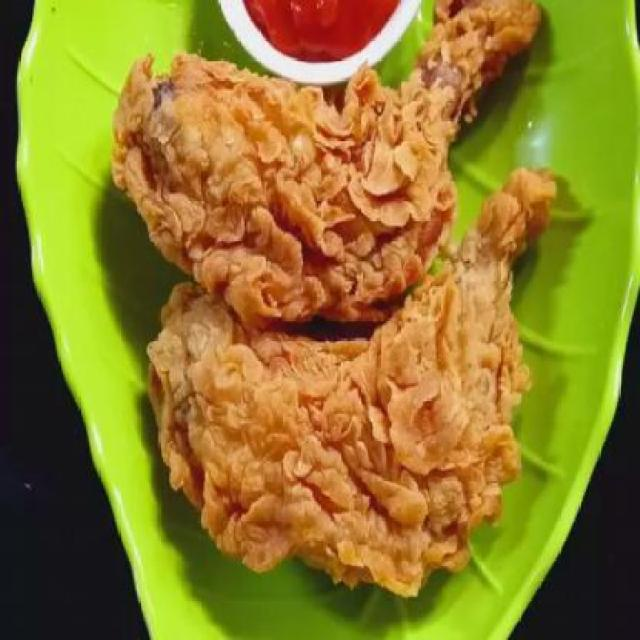Frango: (65, 222, 582, 563), (103, 30, 525, 282)
